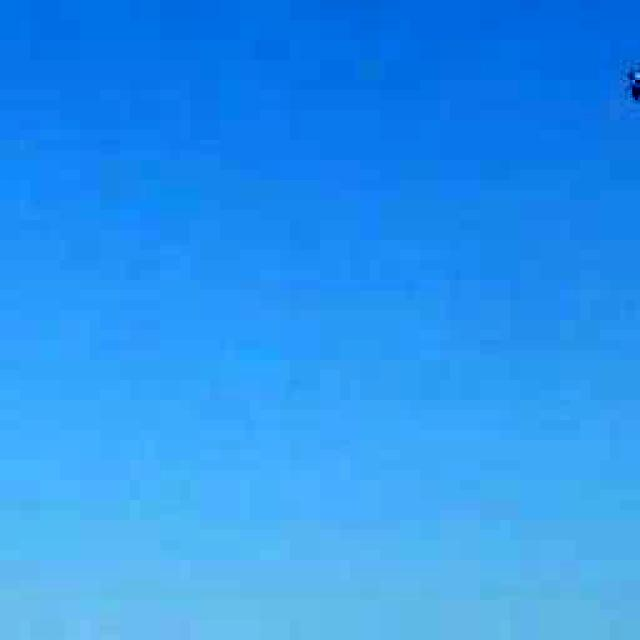bird: (589, 21, 640, 119)
